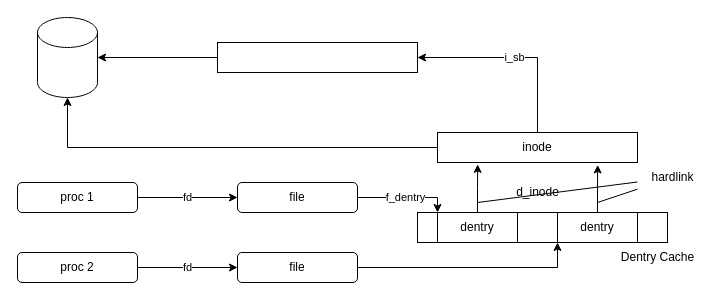
Image size: 725x300. Some labels were removed from this diagram. Each missing label, with the centre of its shape:
"Storage device" belongs at [67,57].
"superblock" belongs at [317,57].
